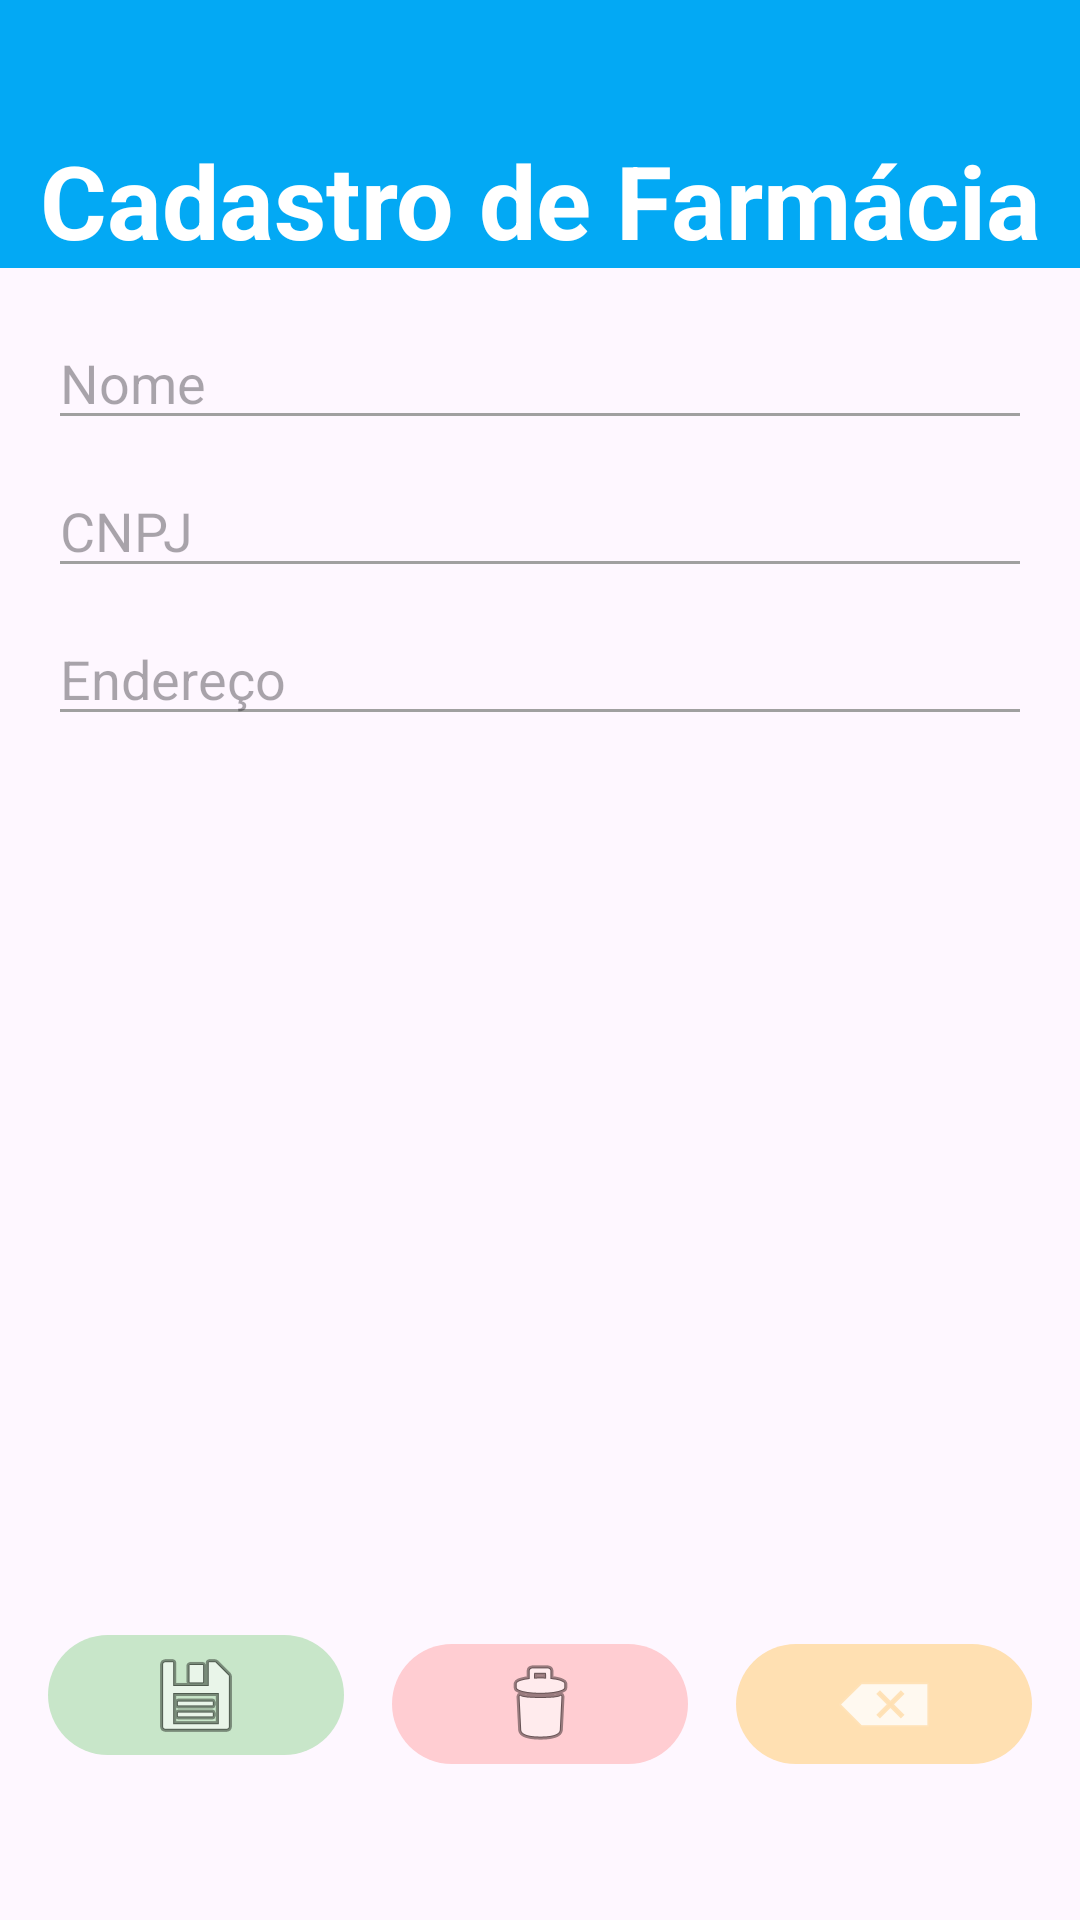

Named icons in this screenshot (1080px×1920px) and their bounding boxes, (x1,y1,x2,y2):
delete: (392,1644,688,1764), (736,1644,1032,1764)
save: (48,1635,344,1755)
